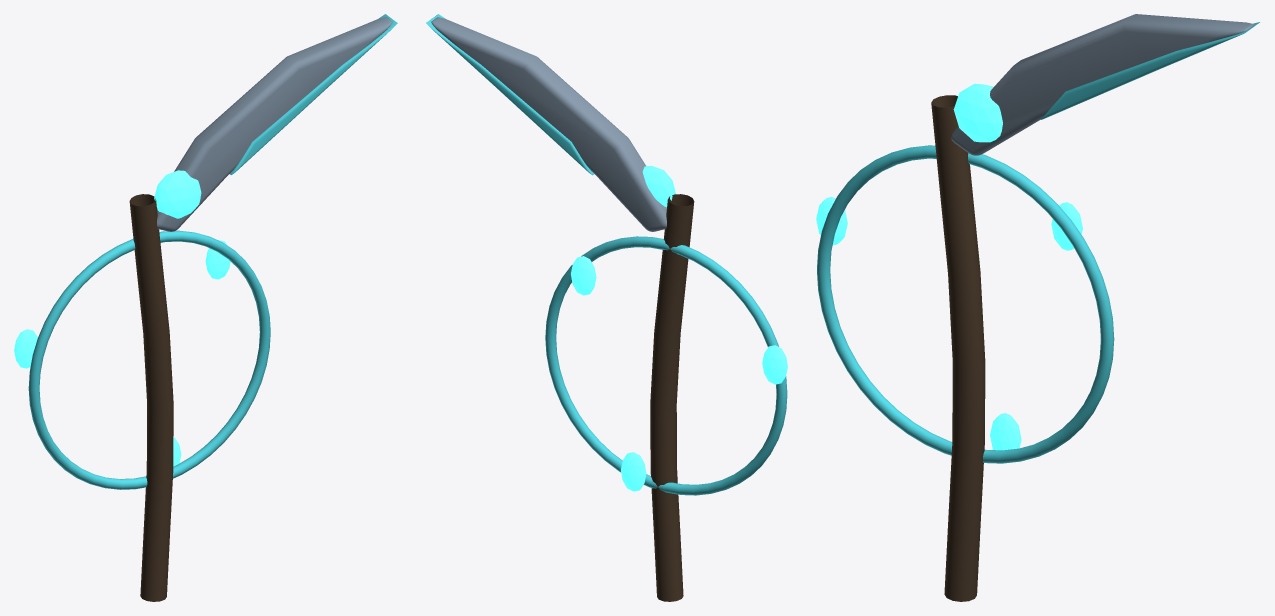
Rendered from scythe_v2.glb.
3 views of the same model, side by side, from view 1: azimuth 30°, elevation 25°; view 2: azimuth 150°, elevation 25°; view 3: azimuth 330°, elevation 25° (orthographic). The views are drawn at different scales.
Parts seen in each view (by area): view 1: SCYTHE_SHAFT_SECONDARY, SCYTHE_BLADE_PRIMARY, VARIANT_HALO_ACCENT, SCYTHE_EDGE_ACCENT, SCYTHE_EYE_EMISSIVE, VARIANT_GEM_EMISSIVE.001, VARIANT_GEM_EMISSIVE; view 2: SCYTHE_BLADE_PRIMARY, SCYTHE_SHAFT_SECONDARY, VARIANT_HALO_ACCENT, SCYTHE_EDGE_ACCENT, SCYTHE_EYE_EMISSIVE, VARIANT_GEM_EMISSIVE.001, VARIANT_GEM_EMISSIVE.002, VARIANT_GEM_EMISSIVE; view 3: SCYTHE_SHAFT_SECONDARY, SCYTHE_BLADE_PRIMARY, VARIANT_HALO_ACCENT, SCYTHE_EDGE_ACCENT, SCYTHE_EYE_EMISSIVE, VARIANT_GEM_EMISSIVE.002, VARIANT_GEM_EMISSIVE, VARIANT_GEM_EMISSIVE.001.
Boxes of the visible parts, left/top/right/bottom form: SCYTHE_SHAFT_SECONDARY: left=129, top=194, right=173, bottom=601; SCYTHE_BLADE_PRIMARY: left=157, top=17, right=392, bottom=231; VARIANT_HALO_ACCENT: left=28, top=230, right=270, bottom=489; SCYTHE_EDGE_ACCENT: left=230, top=14, right=397, bottom=174; SCYTHE_EYE_EMISSIVE: left=154, top=170, right=201, bottom=218; VARIANT_GEM_EMISSIVE.001: left=14, top=329, right=37, bottom=368; VARIANT_GEM_EMISSIVE: left=205, top=240, right=230, bottom=279; SCYTHE_BLADE_PRIMARY: left=431, top=17, right=666, bottom=231; SCYTHE_SHAFT_SECONDARY: left=650, top=194, right=694, bottom=601; VARIANT_HALO_ACCENT: left=545, top=236, right=787, bottom=495; SCYTHE_EDGE_ACCENT: left=426, top=14, right=593, bottom=175; SCYTHE_EYE_EMISSIVE: left=642, top=165, right=675, bottom=207; VARIANT_GEM_EMISSIVE.001: left=762, top=345, right=787, bottom=384; VARIANT_GEM_EMISSIVE.002: left=620, top=452, right=646, bottom=491; VARIANT_GEM_EMISSIVE: left=571, top=256, right=596, bottom=295; SCYTHE_SHAFT_SECONDARY: left=931, top=95, right=985, bottom=601; SCYTHE_BLADE_PRIMARY: left=951, top=14, right=1254, bottom=155; VARIANT_HALO_ACCENT: left=817, top=145, right=1114, bottom=463; SCYTHE_EDGE_ACCENT: left=1041, top=22, right=1259, bottom=119; SCYTHE_EYE_EMISSIVE: left=953, top=83, right=1002, bottom=142; VARIANT_GEM_EMISSIVE.002: left=990, top=413, right=1021, bottom=450; VARIANT_GEM_EMISSIVE: left=1051, top=202, right=1082, bottom=250; VARIANT_GEM_EMISSIVE.001: left=816, top=197, right=847, bottom=245.
Bounding box in the file's own units: 2.7 × 3.68 × 0.335.
